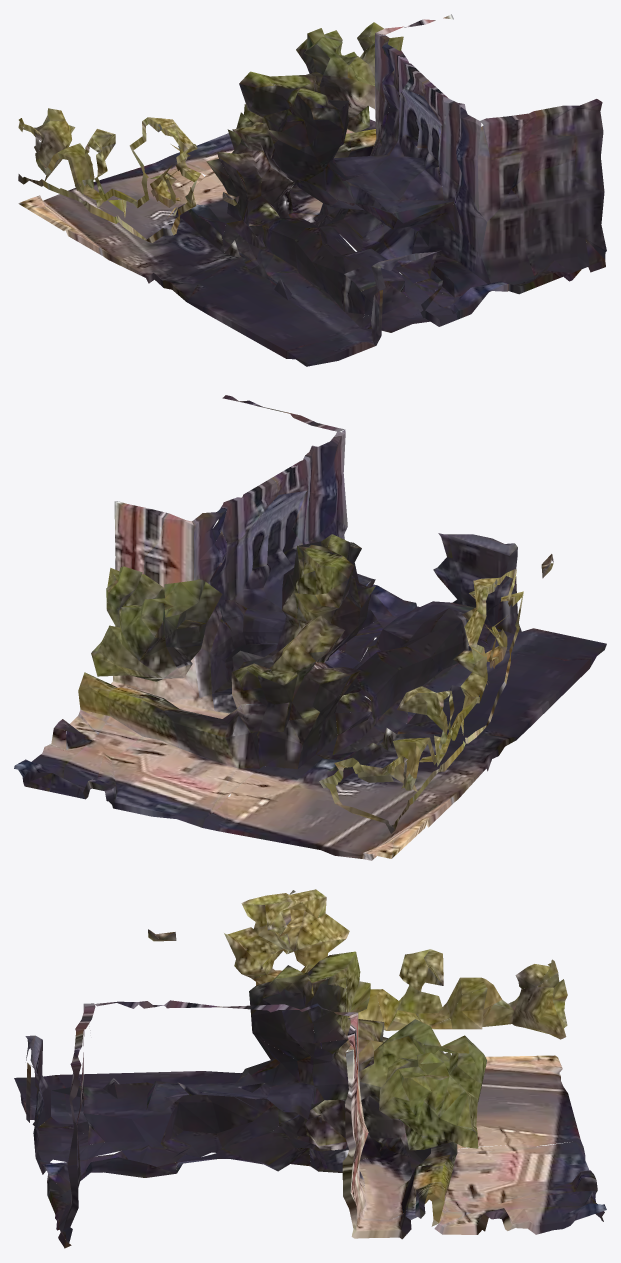
3 renders of one model, top to bottom at view 1: azimuth 30°, elevation 25°; view 2: azimuth 150°, elevation 25°; view 3: azimuth 270°, elevation 25°, orthographic. The views are drawn at different scales.
Visible parts, largest first — view 1: Mesh_0; view 2: Mesh_0; view 3: Mesh_0.
Boxes of the visible parts, <box> form: Mesh_0: <box>18,14,606,366</box>; Mesh_0: <box>14,395,606,860</box>; Mesh_0: <box>14,889,606,1248</box>.
Size of the model in its own units: 33.63 by 15.78 by 41.54.
Materials: 2 (2 with a texture image).
